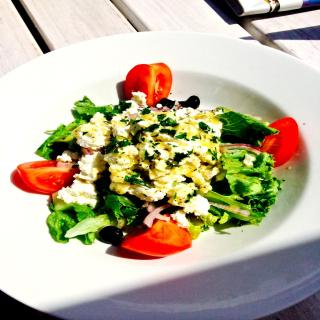tomato: (114, 218, 193, 258), (17, 157, 78, 194), (123, 60, 170, 106), (260, 115, 296, 175)
